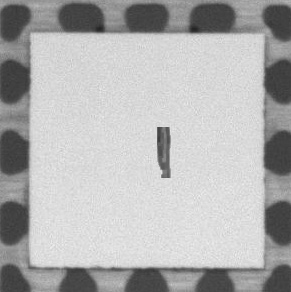DIE_INK: (156, 127, 174, 179)
